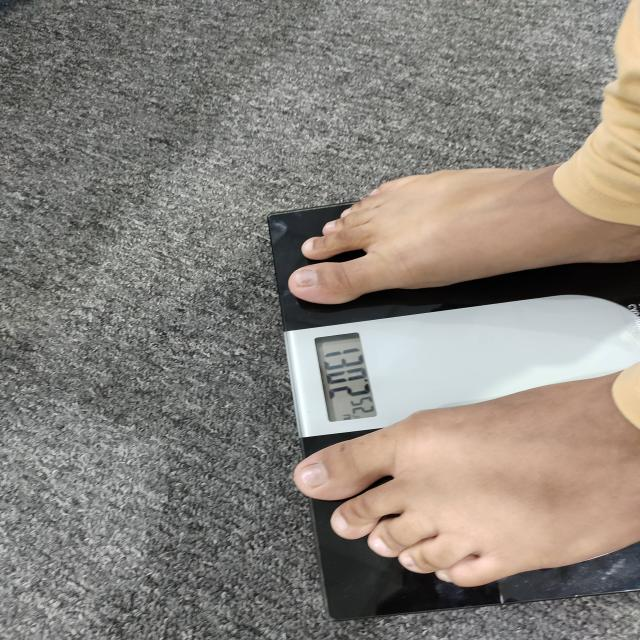ws: (269, 208, 640, 459)
